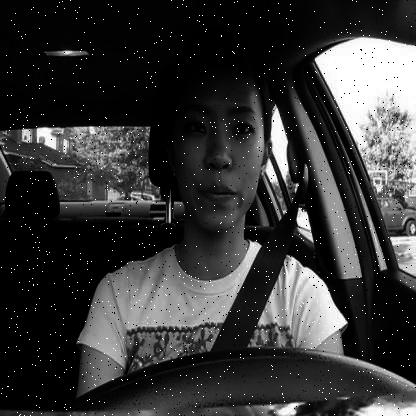seatbelt: (150, 26, 308, 346)
